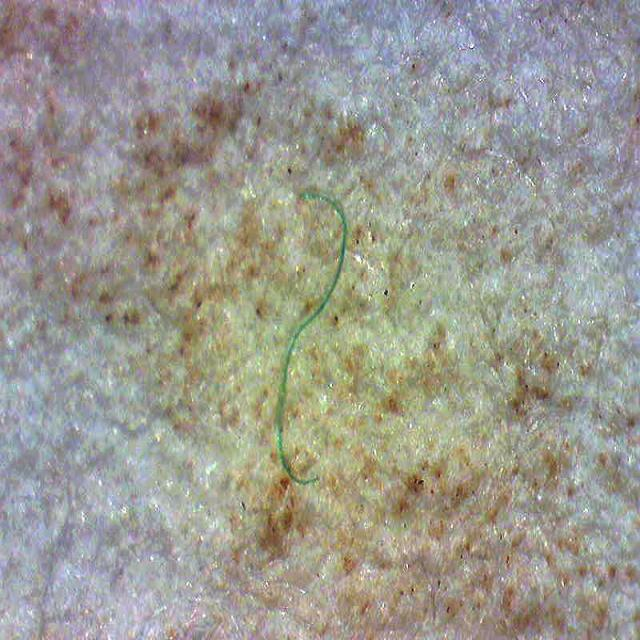microplastic: (275, 193, 347, 486)
